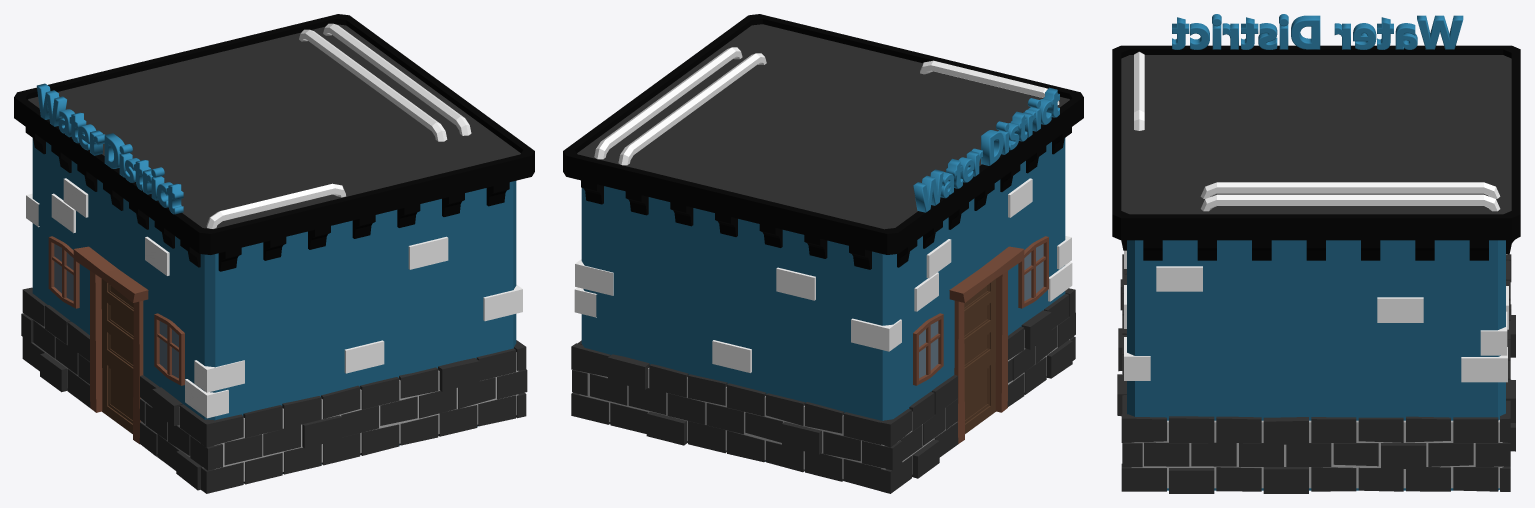
Rendered from WaterDistrict.fbx.
3 views of the same model, side by side, from view 1: azimuth 30°, elevation 25°; view 2: azimuth 150°, elevation 25°; view 3: azimuth 270°, elevation 25° (orthographic). The views are drawn at different scales.
Parts seen in each view (by area): view 1: 1Story_Mat_Cube.001, Text.021; view 2: 1Story_Mat_Cube.001, Text.021; view 3: 1Story_Mat_Cube.001, Text.021.
Boxes of the visible parts, x1=… form: 1Story_Mat_Cube.001: x1=14, y1=14, x2=534, y2=493; Text.021: x1=36, y1=83, x2=183, y2=214; 1Story_Mat_Cube.001: x1=563, y1=14, x2=1083, y2=493; Text.021: x1=913, y1=87, x2=1059, y2=212; 1Story_Mat_Cube.001: x1=1112, y1=45, x2=1520, y2=493; Text.021: x1=1172, y1=14, x2=1463, y2=49.
Size of the model in its own units: 434 by 360 by 429.
